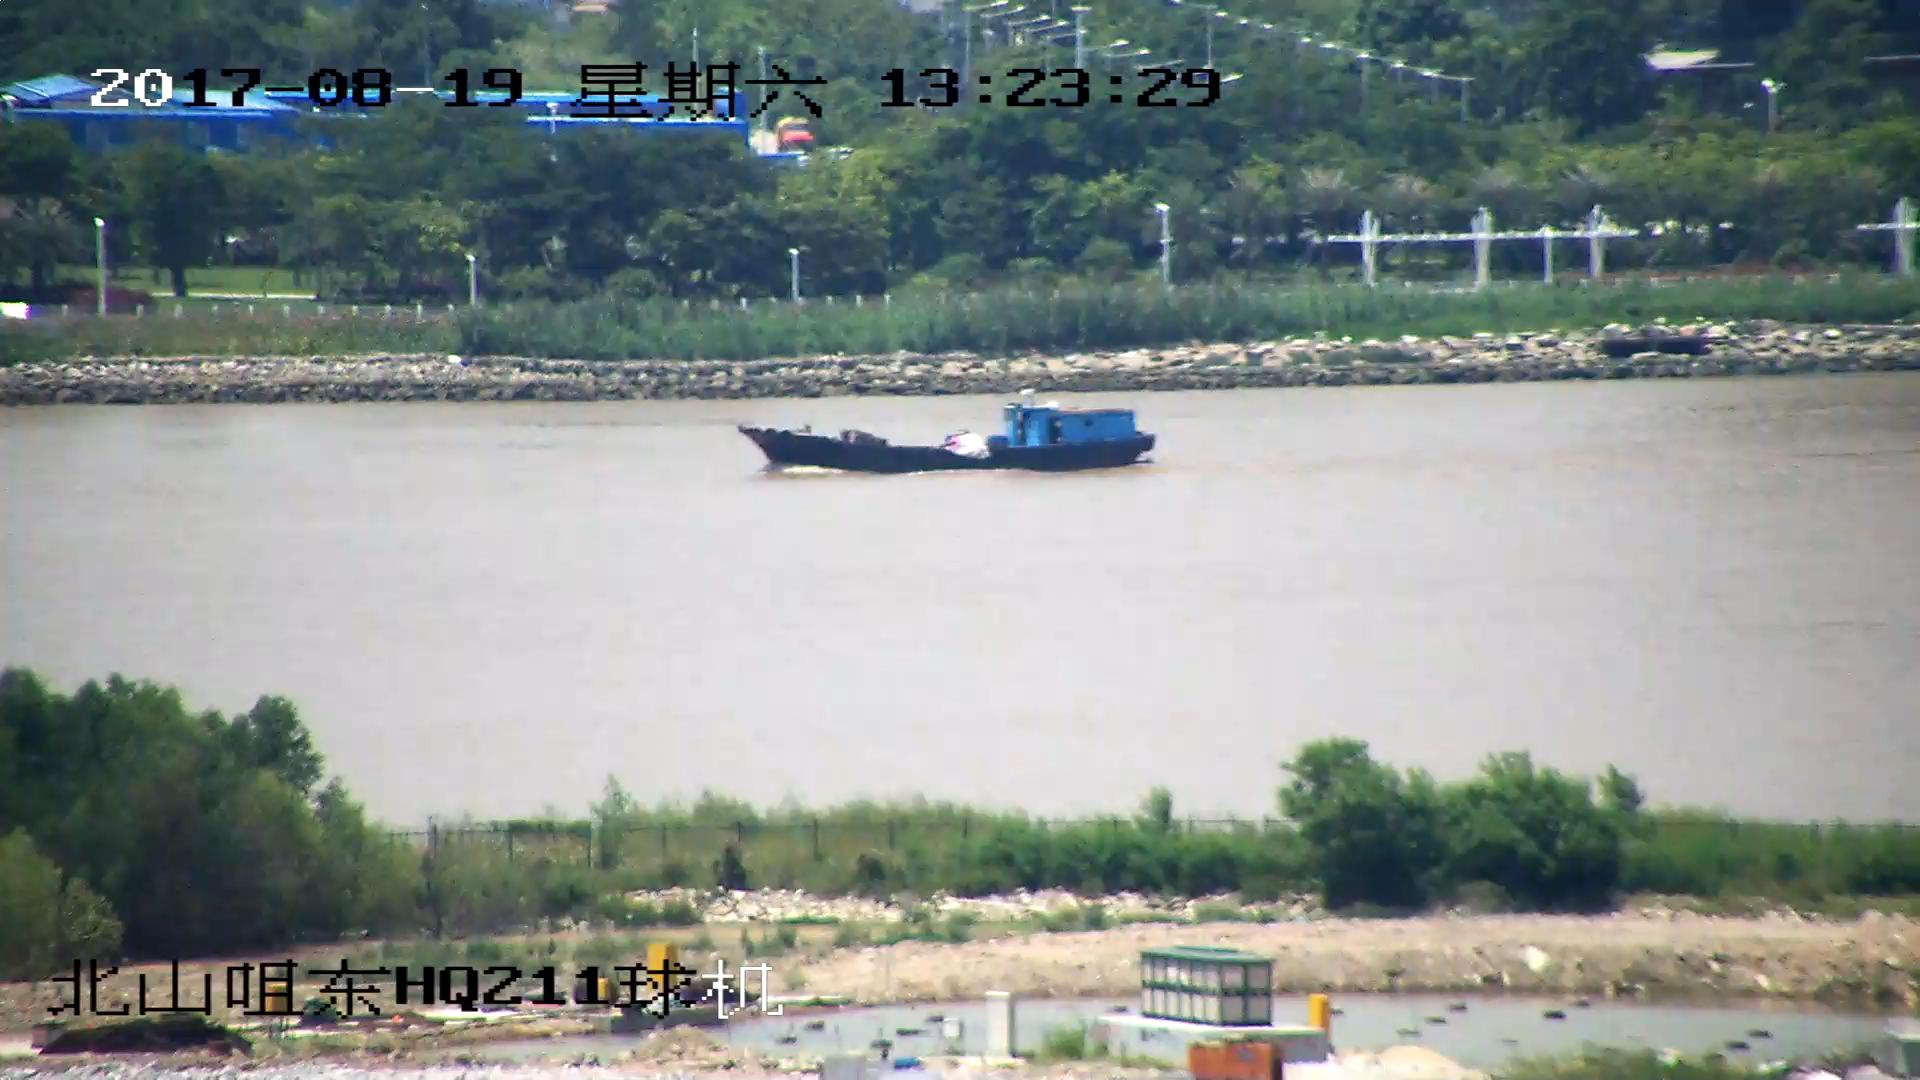fishing boat: (738, 406, 1158, 474)
